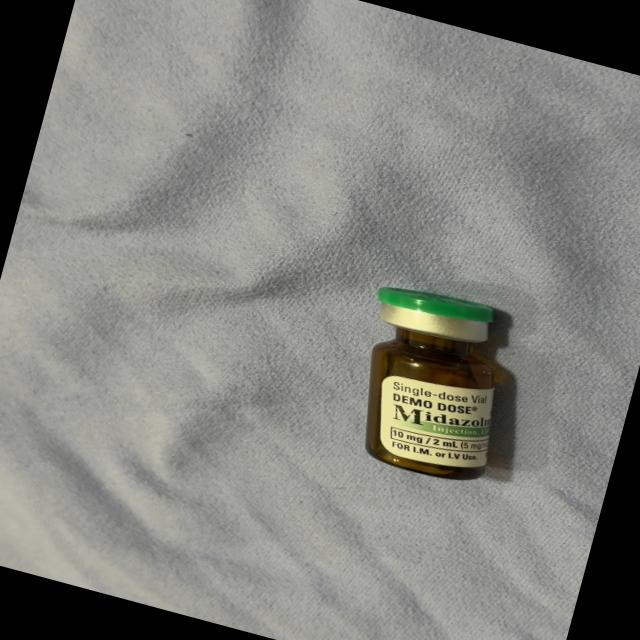midazolm: (338, 279, 526, 485), (336, 280, 524, 486)
